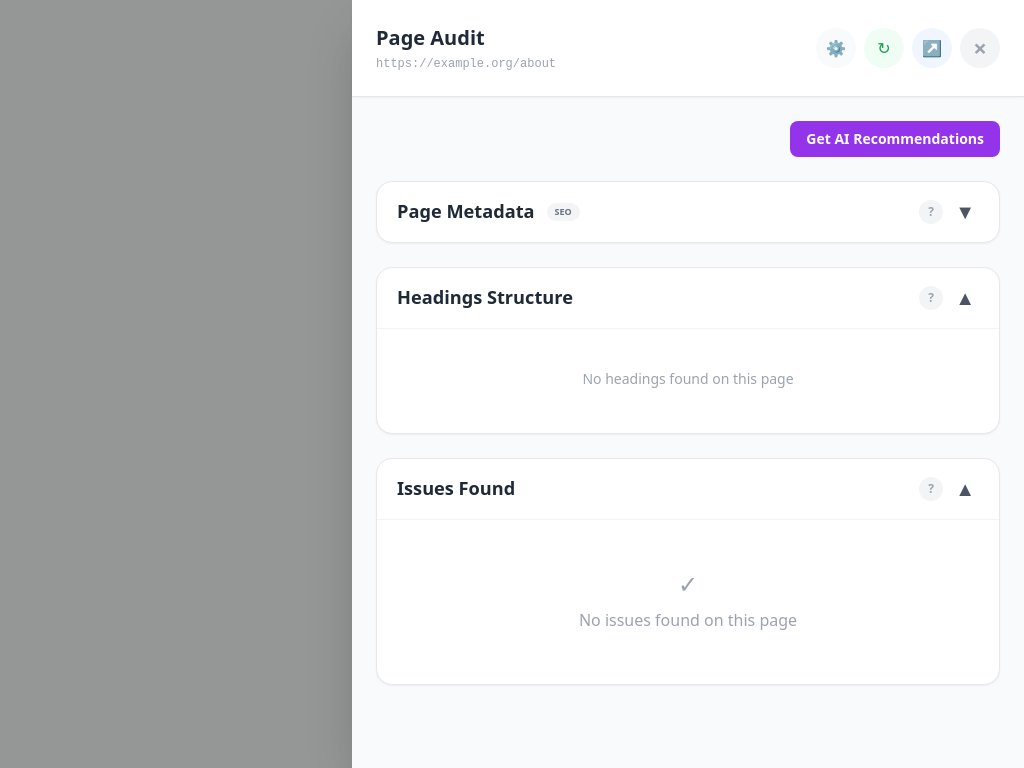
Test case: D5 the re-check button reports its outcome › shows an error rather than silence when the re-check fails
The image size is (1024, 768).
Click the button named "Re-check this page". click: (884, 48)
box: [864, 28, 904, 68]
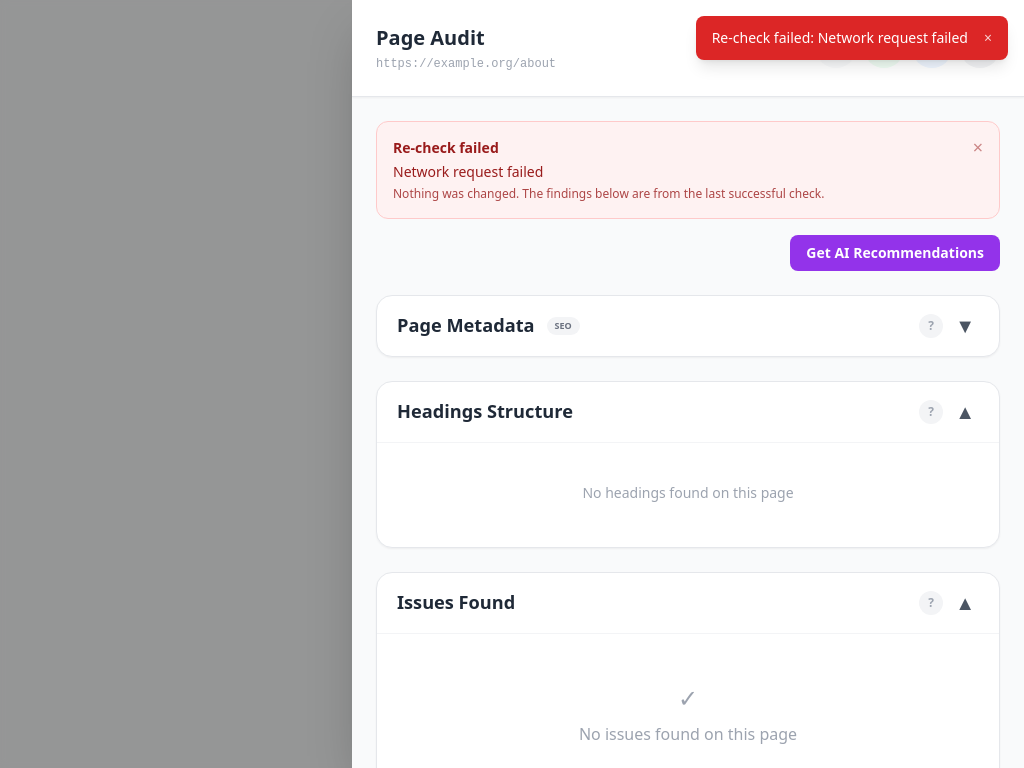
Expected: the text "findings below are from the last successful check" is shown, [393, 185, 824, 202]
